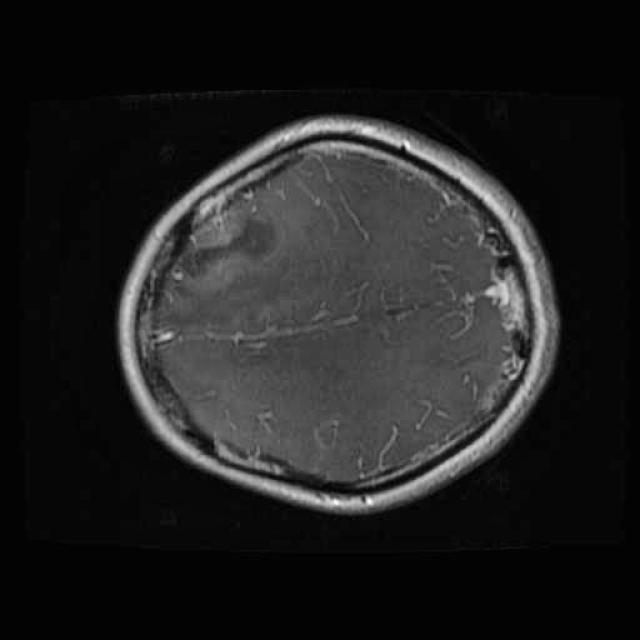Tumor: (163, 186, 296, 306)
